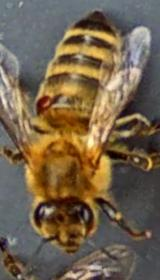varroa_mite: (22, 85, 62, 120)
